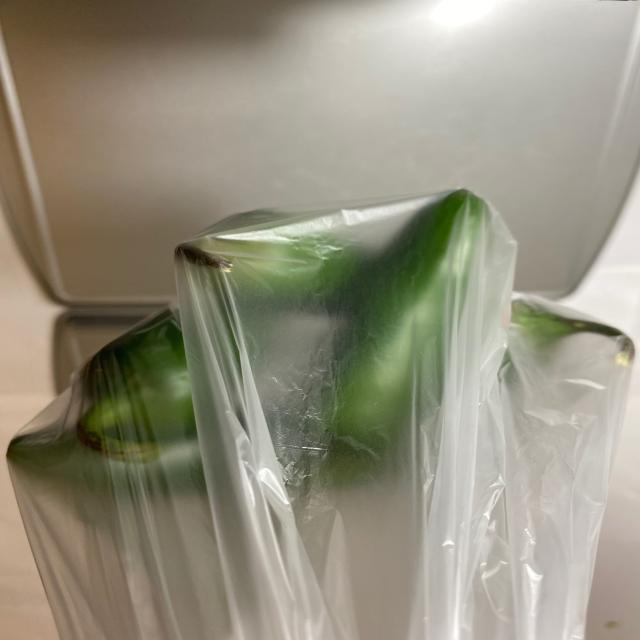chilli: (12, 182, 640, 517)
